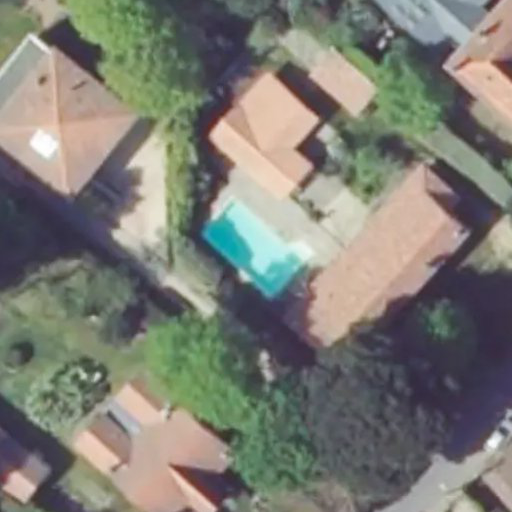pool: (202, 198, 318, 297)
